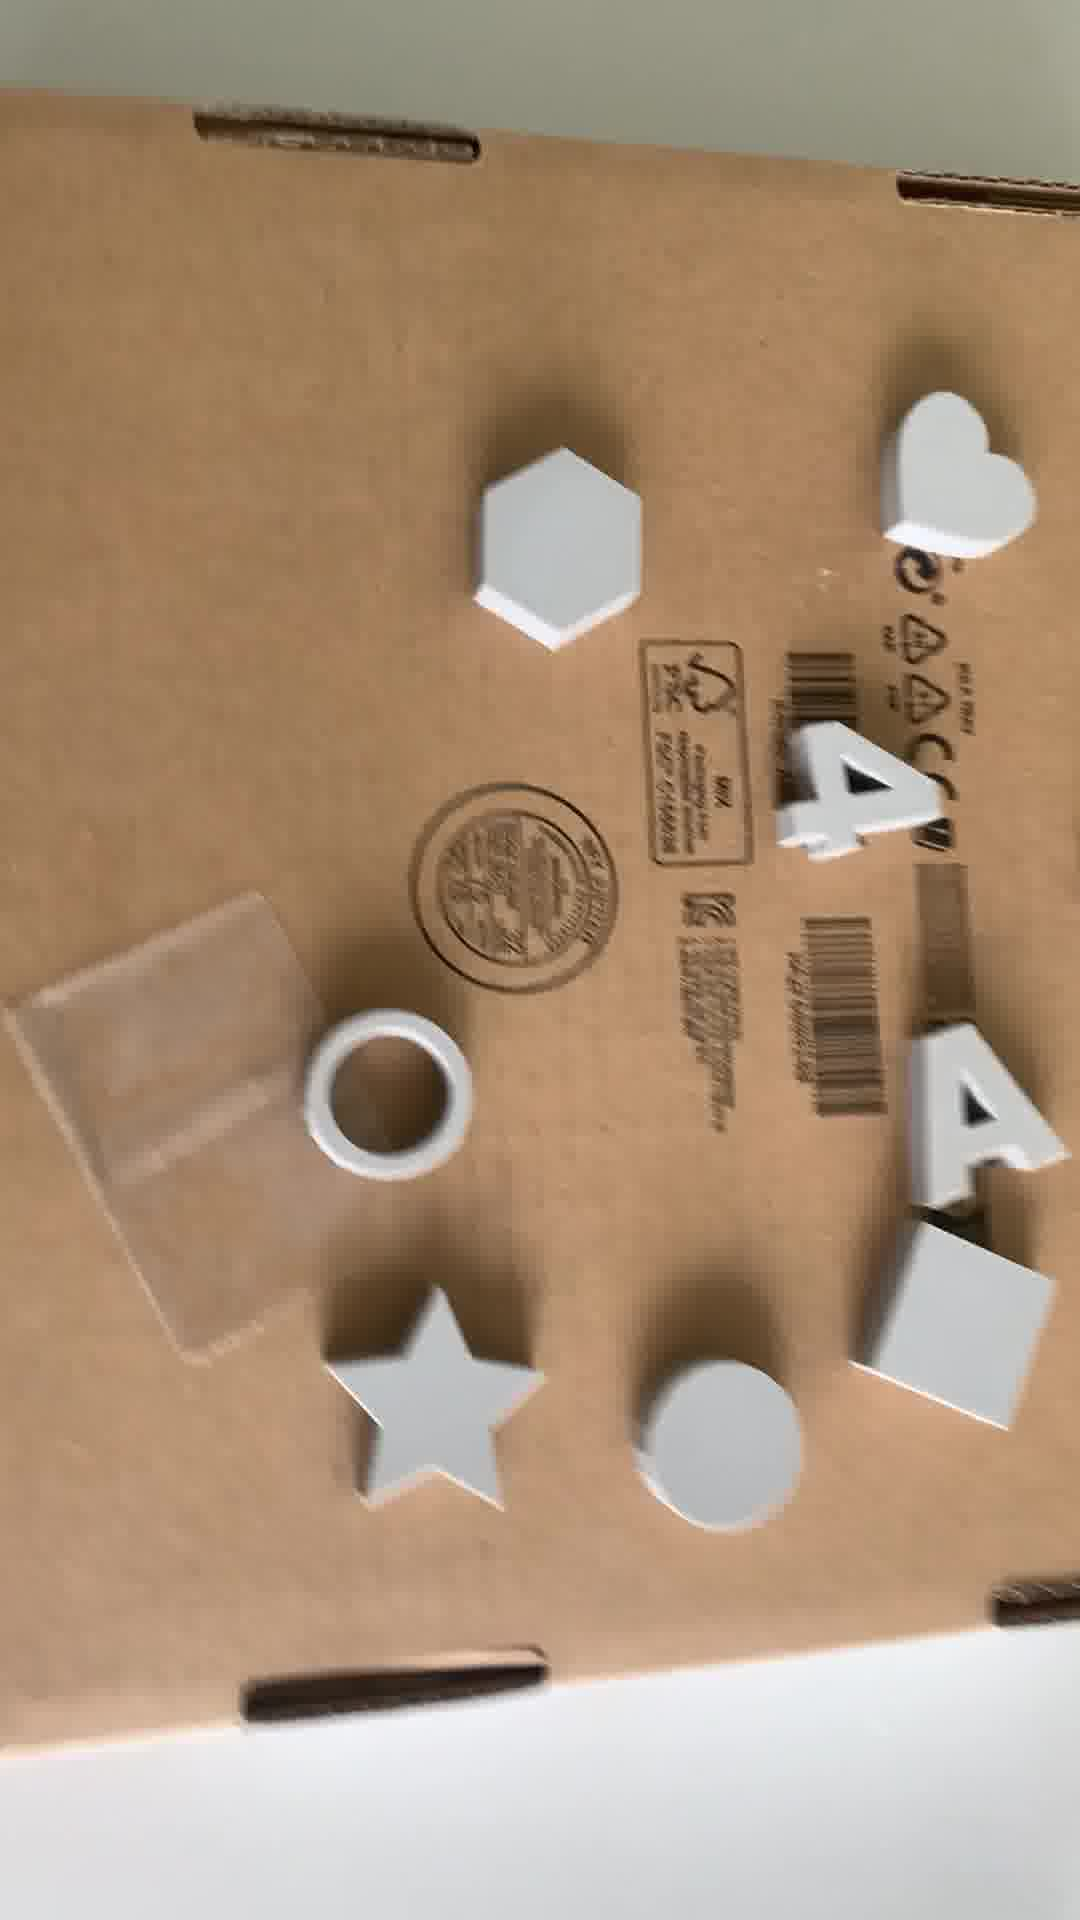Gray A-letter: (899, 1026, 1065, 1208)
Gray circle: (622, 1365, 802, 1524)
Gray four: (753, 720, 947, 857)
Gray heart: (877, 389, 1040, 571)
Gray hexagon: (471, 438, 651, 644)
Gray ring: (291, 1014, 480, 1189)
Gray square: (855, 1222, 1054, 1433)
Gray star: (309, 1276, 531, 1522)
